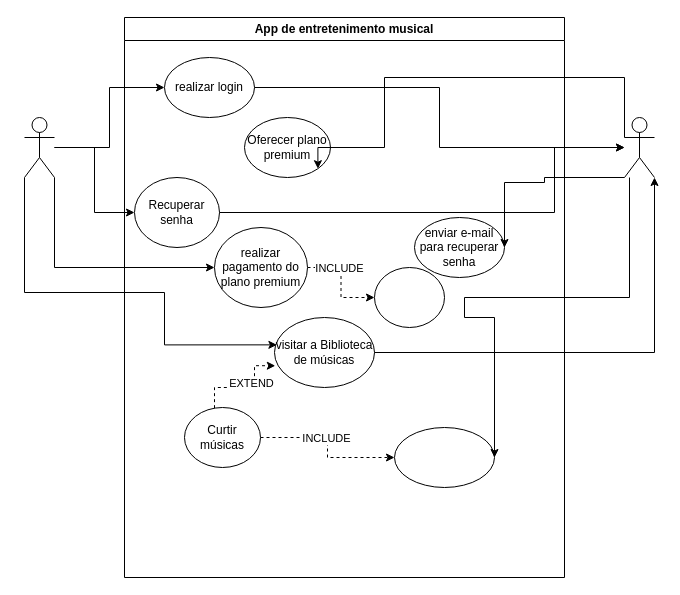
Image size: 680x595. Some labels were removed from this diagram. The shapes that lost their labels are listed below. From the top down, each one's centre as x and y in pixels, then its label:
At point 39,147: "Usuário".
At point 639,147: "Sistema".
At point 409,297: "mostrar benefícios do plano".
At point 444,457: "criar lista de reprodução de músicas curtidas".
